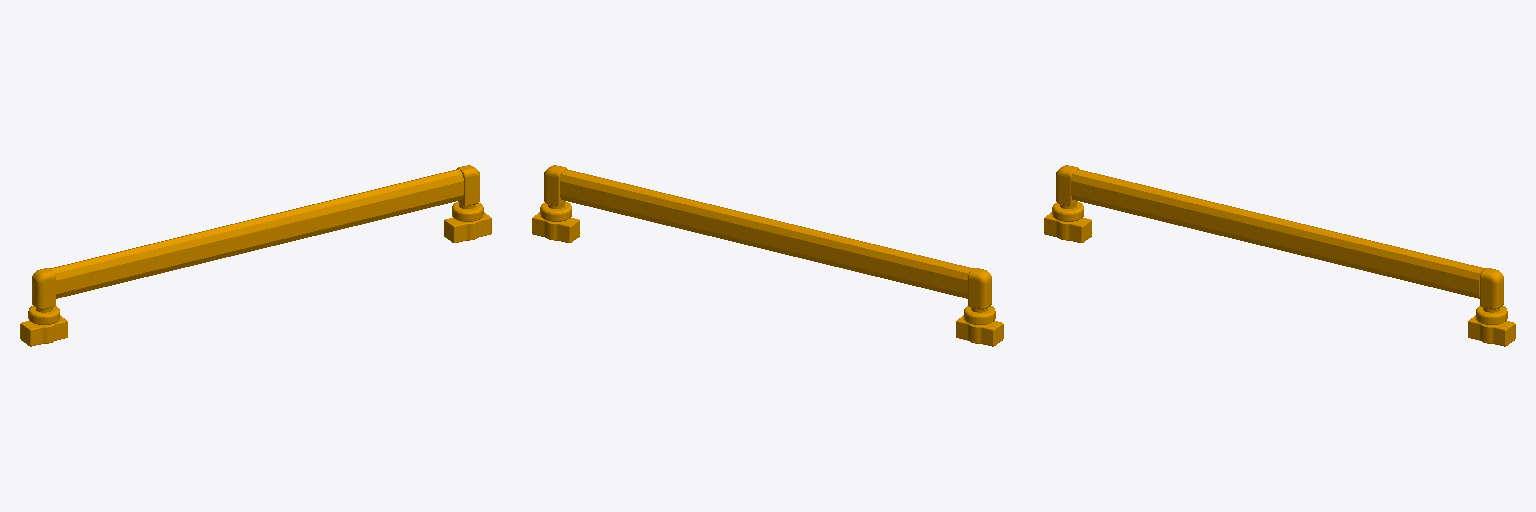
The robot description file, URDF, robot "handrail_21_5":
<?xml version="1.0"?>

<!-- Copyright (c) 2017, United States Government, as represented by the     -->
<!-- Administrator of the National Aeronautics and Space Administration.     -->
<!--                                                                         -->
<!-- All rights reserved.                                                    -->
<!--                                                                         -->
<!-- The Astrobee platform is licensed under the Apache License, Version 2.0 -->
<!-- (the "License"); you may not use this file except in compliance with    -->
<!-- the License. You may obtain a copy of the License at                    -->
<!--                                                                         -->
<!--     http://www.apache.org/licenses/LICENSE-2.0                          -->
<!--                                                                         -->
<!-- Unless required by applicable law or agreed to in writing, software     -->
<!-- distributed under the License is distributed on an "AS IS" BASIS,       -->
<!-- WITHOUT WARRANTIES OR CONDITIONS OF ANY KIND, either express or         -->
<!-- implied. See the License for the specific language governing            -->
<!-- permissions and limitations under the License.                          -->

<robot name="handrail_21_5" xmlns:xacro="http://www.ros.org/wiki/xacro">
  <link name="body">
    <inertial>
      <mass value="20"/>
      <origin xyz="0 0 0"/>
      <inertia ixx="1" ixy="0" ixz="0" iyy="1" iyz="0" izz="1"/>
    </inertial>
    <visual name="body_visual">
      <origin xyz="0 0 0" rpy="0 0 0" />
      <geometry>
        <mesh filename="package://astrobee_handrail_21_5/meshes/handrail_21_5.dae"/>
      </geometry>
    </visual>
    <collision name="body_collision">
      <origin xyz="0 0 0" rpy="0 0 0" />
      <geometry>
        <mesh filename="package://astrobee_handrail_21_5/meshes/handrail_21_5.dae"/>
      </geometry>
    </collision>
  </link>
  <gazebo>
    <static>true</static>
  </gazebo>
</robot>

--- Render facts (derived) ---
Views: 3 orthographic renders of the robot side by side, from view 1: azimuth 30°, elevation 25°; view 2: azimuth 150°, elevation 25°; view 3: azimuth 330°, elevation 25°.
Robot: handrail_21_5 — 1 links, 0 joints (none); root link body; default pose: every joint at zero.
Visible links, largest first — view 1: body; view 2: body; view 3: body.
Link boxes in pixels (x1=…): body: x1=20, y1=165, x2=491, y2=346; body: x1=532, y1=165, x2=1003, y2=346; body: x1=1044, y1=165, x2=1515, y2=346.
Size in the robot's own frame: 0.5528 by 0.033 by 0.0782 metres.
Meshes: 1 distinct files referenced, 1 mesh visuals loaded (1 Collada DAE).